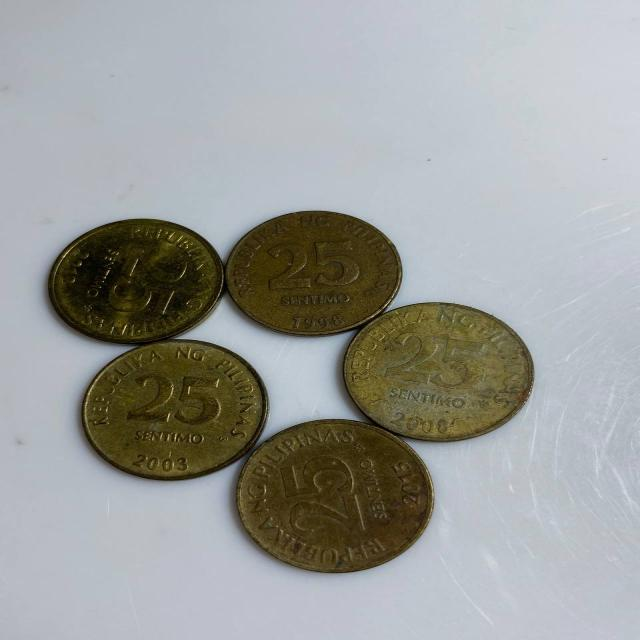25Cent_Old_Front: (270, 453, 374, 531), (391, 328, 488, 395), (111, 246, 193, 316), (129, 375, 231, 431), (266, 239, 371, 290)
